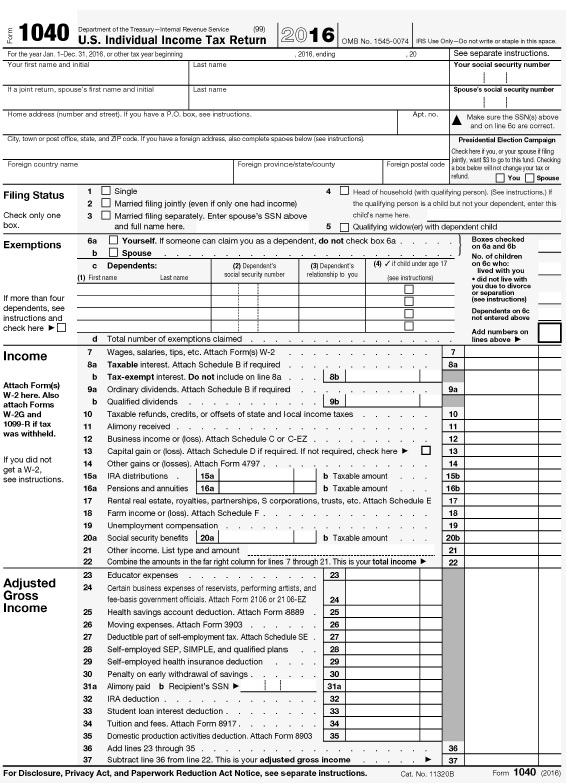checkbox: (418, 444, 434, 457), (521, 171, 537, 184), (491, 171, 507, 184), (336, 183, 352, 196), (335, 220, 351, 233), (105, 233, 121, 246), (104, 245, 120, 258), (98, 184, 114, 197), (97, 196, 113, 209), (96, 209, 112, 222), (400, 282, 416, 295), (400, 294, 416, 307), (399, 306, 415, 319), (400, 319, 416, 332)
textbox: (461, 564, 541, 756), (1, 133, 453, 163), (1, 108, 399, 137), (185, 59, 451, 87), (186, 84, 452, 112), (1, 157, 236, 187), (535, 563, 566, 757), (1, 58, 191, 87), (1, 83, 193, 111), (230, 157, 385, 187), (446, 58, 566, 88), (446, 83, 566, 113), (462, 366, 541, 397), (462, 391, 541, 422), (342, 578, 422, 608), (74, 281, 214, 298), (73, 293, 213, 310), (74, 305, 214, 322), (71, 315, 211, 332), (380, 157, 452, 186), (394, 107, 454, 137), (207, 316, 302, 334), (207, 280, 303, 297), (206, 293, 302, 310), (209, 305, 305, 322), (461, 354, 542, 373), (459, 416, 540, 435), (460, 429, 541, 448), (460, 440, 541, 459), (461, 453, 542, 472), (462, 466, 543, 485), (460, 477, 541, 496), (462, 490, 543, 509), (461, 504, 542, 523), (462, 515, 543, 534), (461, 528, 542, 547), (461, 539, 542, 558), (462, 553, 543, 572), (460, 750, 541, 769), (343, 601, 422, 620), (343, 614, 422, 633), (343, 627, 422, 646), (343, 639, 422, 658), (342, 651, 421, 670), (343, 664, 422, 683), (343, 676, 422, 695), (344, 688, 423, 707), (343, 700, 422, 719), (342, 713, 421, 732), (342, 725, 421, 744), (342, 367, 424, 385), (342, 391, 424, 409), (215, 466, 297, 484), (215, 479, 297, 497), (215, 527, 297, 545), (462, 342, 541, 360), (343, 566, 422, 584), (295, 280, 368, 298), (294, 291, 367, 309), (295, 304, 368, 322), (295, 316, 368, 334), (416, 578, 445, 609), (536, 321, 564, 345), (533, 236, 563, 255), (414, 367, 445, 385), (416, 391, 447, 409), (290, 465, 321, 483), (289, 478, 320, 496), (289, 527, 320, 545), (533, 260, 563, 278), (535, 288, 565, 306), (534, 305, 564, 323), (537, 342, 566, 360), (535, 355, 564, 373), (535, 416, 564, 434), (535, 430, 564, 448), (536, 442, 565, 460), (536, 454, 565, 472), (535, 466, 564, 484), (536, 478, 565, 496), (536, 490, 565, 508), (536, 503, 565, 521), (536, 516, 565, 534), (535, 528, 564, 546), (536, 540, 565, 558), (536, 552, 565, 570), (416, 564, 445, 582), (417, 602, 446, 620), (416, 614, 445, 632), (416, 626, 445, 644), (416, 640, 445, 658), (416, 652, 445, 670), (416, 664, 445, 682), (416, 677, 445, 695), (416, 689, 445, 707), (416, 701, 445, 719), (416, 713, 445, 731), (416, 726, 445, 744), (536, 750, 565, 768)
textline: (242, 545, 437, 558), (425, 207, 563, 223), (240, 680, 318, 694)
